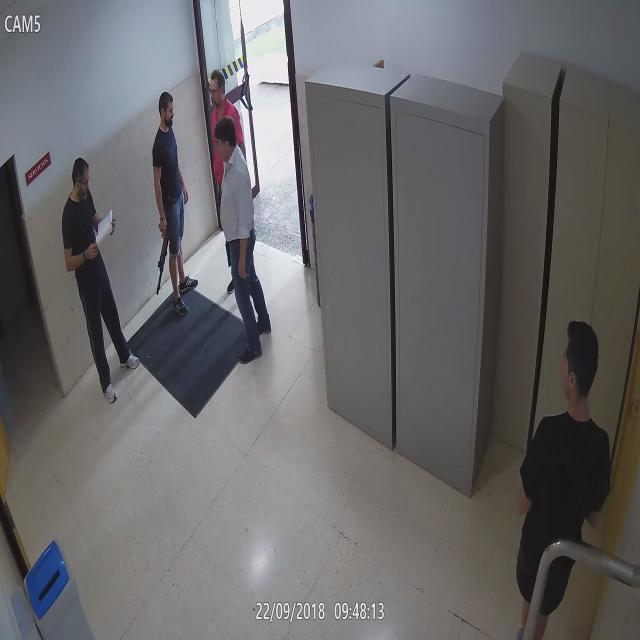gun: (157, 215, 174, 245), (222, 240, 232, 266)
